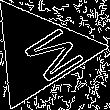M_SW: (3, 19, 77, 86)
